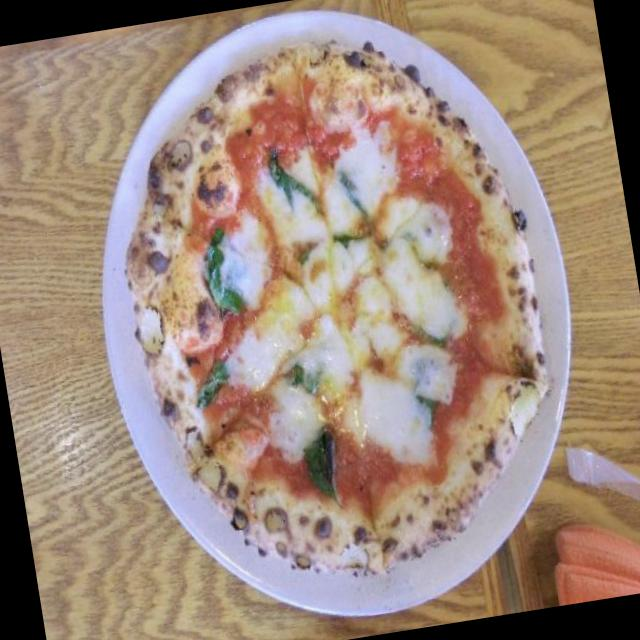Pizza: (90, 0, 583, 606)
